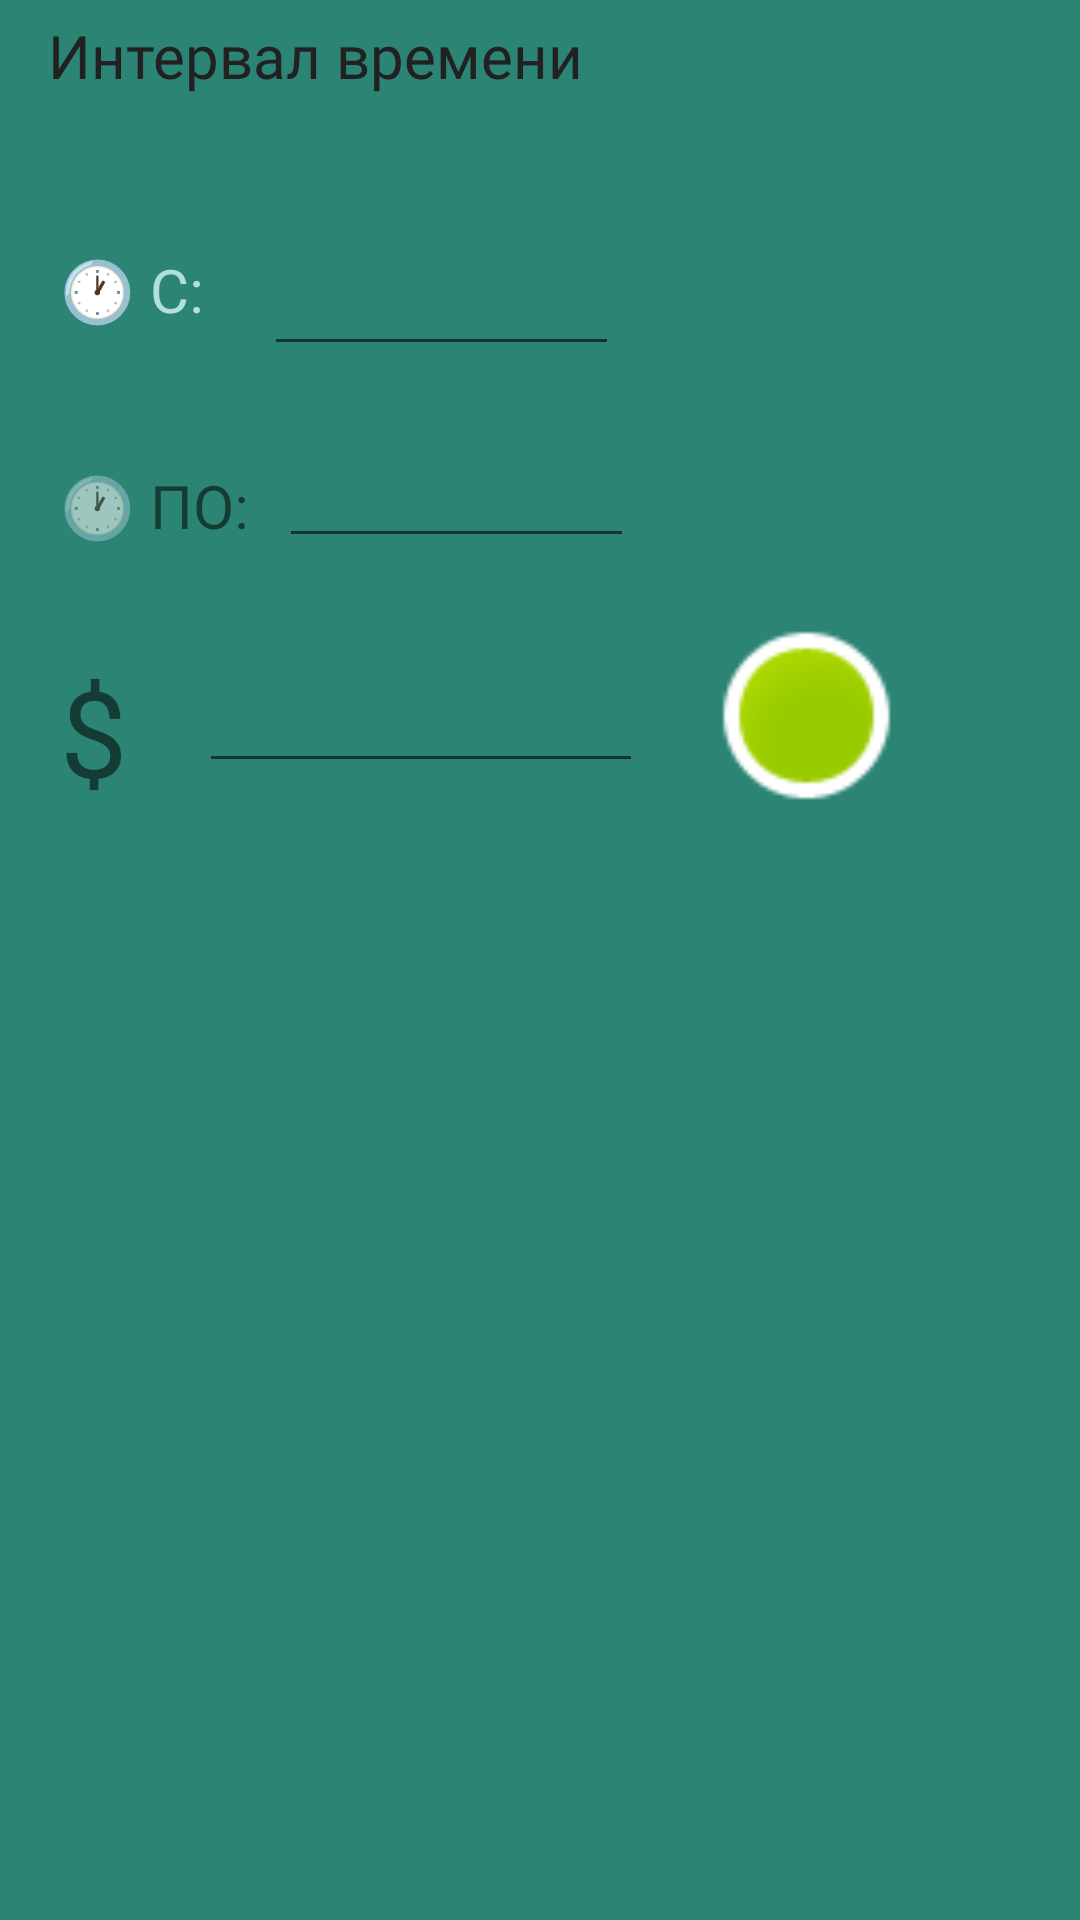

Icon bounding boxes for this 1080×1920 phone screenshot, format region(x1, y1, x2, y2):
presence online: region(722, 631, 891, 800)
